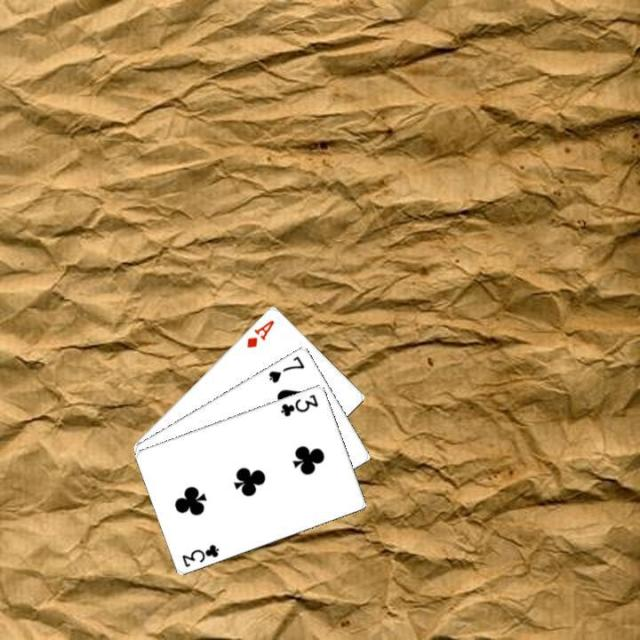3C: (178, 539, 221, 569), (276, 390, 320, 418)
7S: (265, 352, 307, 385)
AD: (242, 316, 276, 350)
